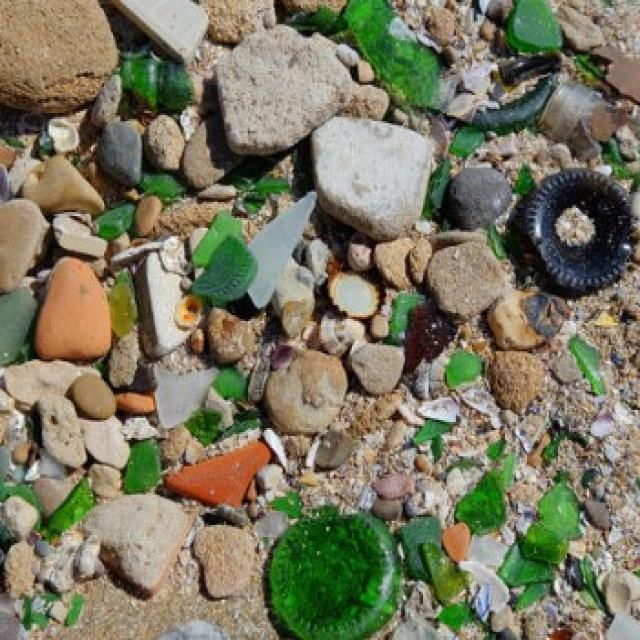electronic: (266, 508, 403, 640), (514, 167, 640, 303), (489, 482, 588, 611), (186, 233, 259, 310)
